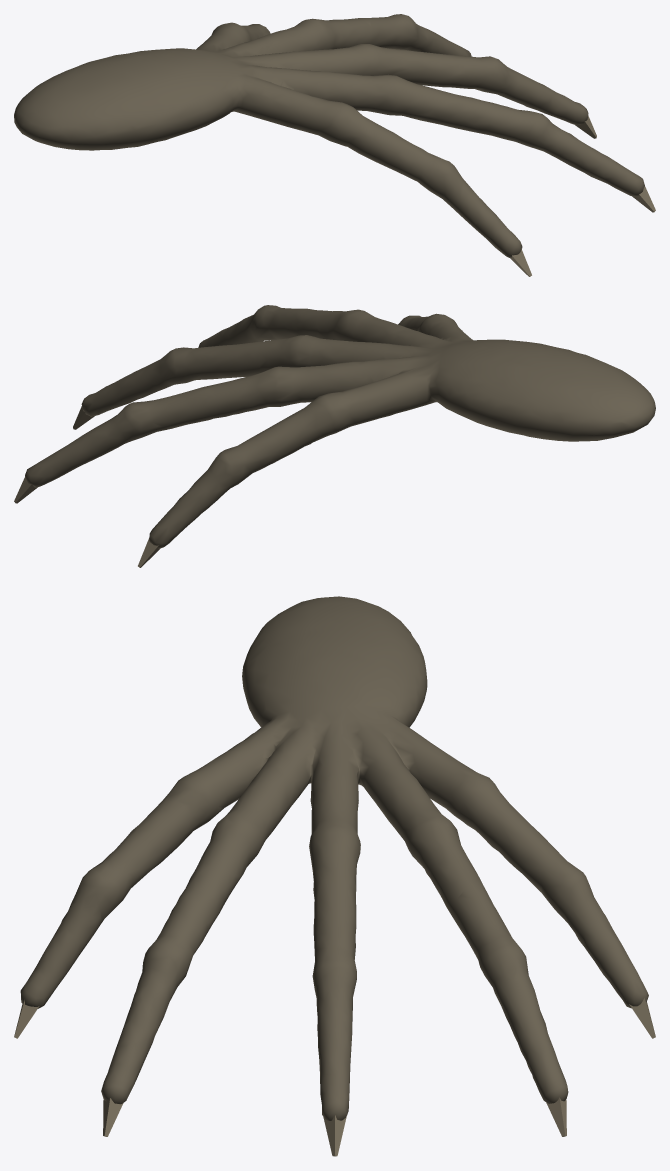
Rendered from wa_claw.glb.
3 renders of one model, top to bottom at view 1: azimuth 30°, elevation 25°; view 2: azimuth 150°, elevation 25°; view 3: azimuth 270°, elevation 25°, orthographic. The views are drawn at different scales.
Parts seen in each view (by area): view 1: klaue, teil0; view 2: klaue, teil0; view 3: klaue, teil0.
Boxes of the visible parts, x1,y1,x2,y2 form: klaue: (14,14,644,257); teil0: (510,116,655,276); klaue: (25,305,655,548); teil0: (14,406,159,567); klaue: (20,596,648,1120); teil0: (14,998,655,1156).
Bounding box in the file's own units: 0.2927 × 0.0896 × 0.2222.
